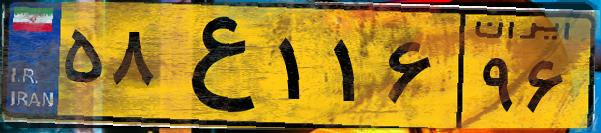1: (270, 28, 330, 110), (330, 28, 385, 110)
5: (57, 26, 110, 100)
6: (385, 28, 445, 110), (525, 38, 570, 115)
8: (110, 28, 158, 98)
9: (475, 38, 525, 113)
ع: (158, 12, 270, 120)
